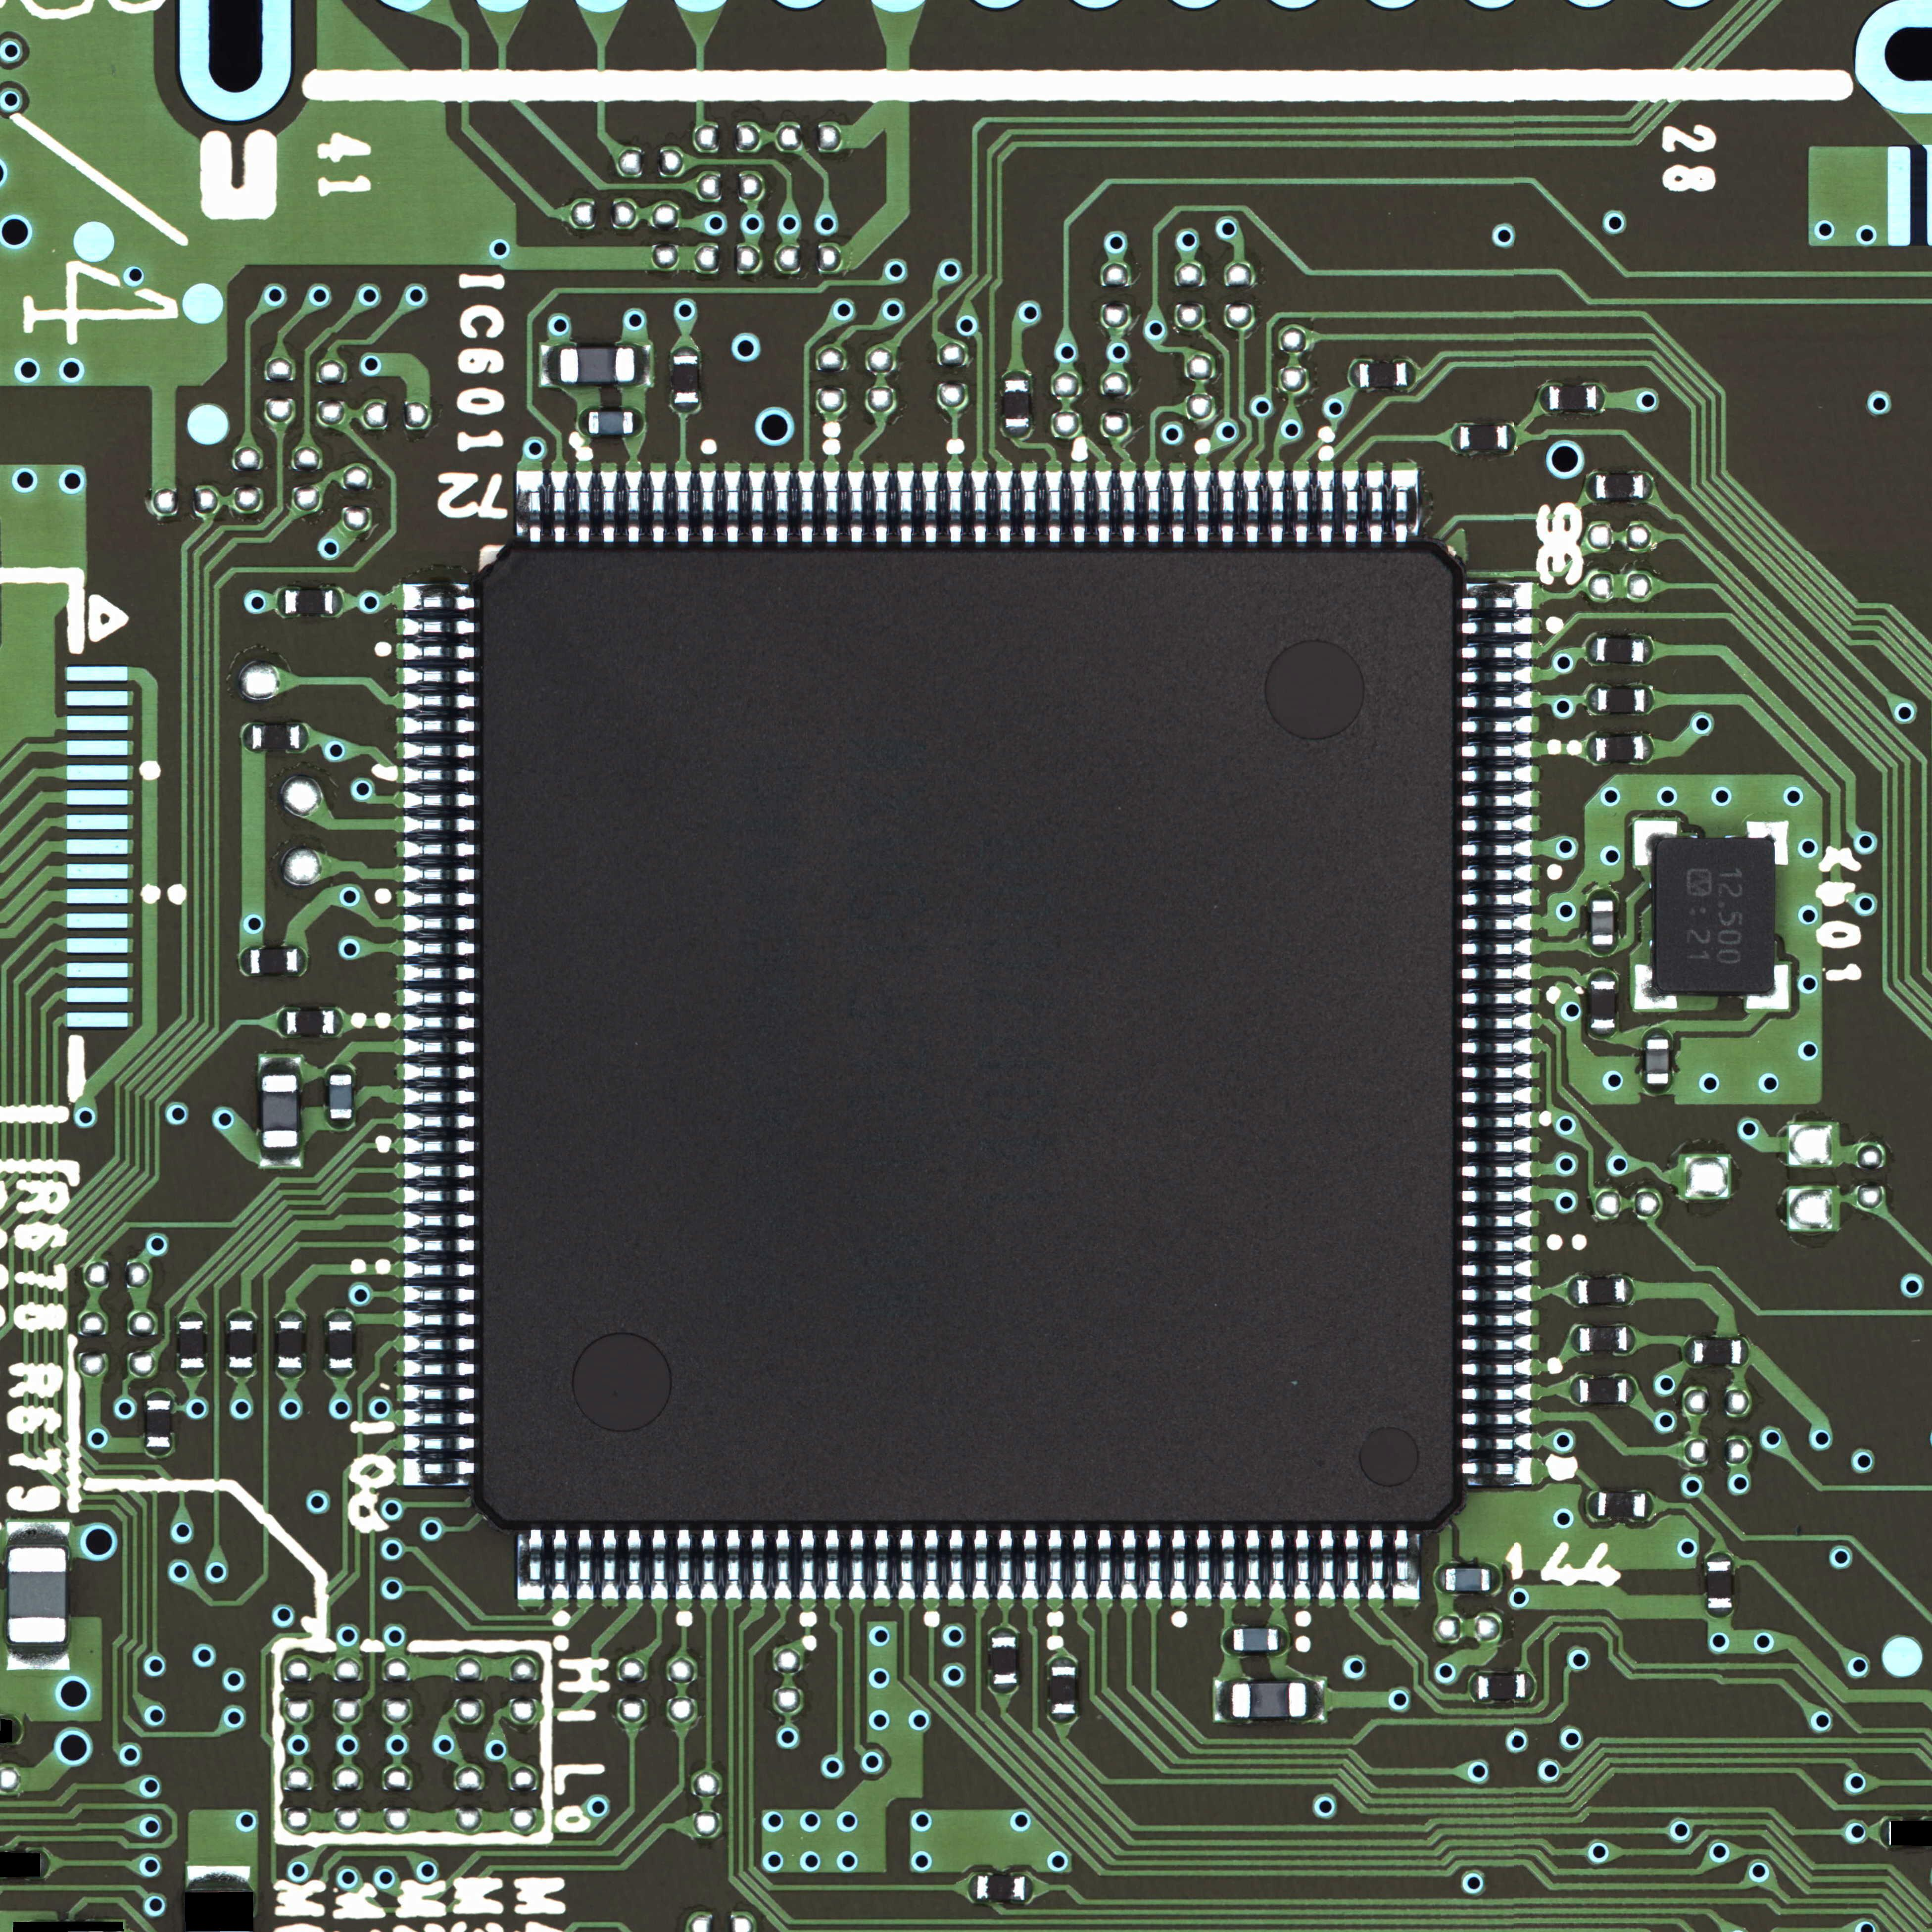Package: (481, 543, 1461, 1529), (1656, 840, 1773, 993), (7, 1548, 65, 1642), (557, 347, 633, 384), (262, 1076, 297, 1146), (1231, 1684, 1306, 1718), (991, 1638, 1019, 1684), (672, 356, 699, 403), (251, 725, 299, 750), (249, 950, 297, 975), (228, 1320, 253, 1368), (278, 1322, 303, 1369), (1051, 1667, 1076, 1714), (977, 1875, 1024, 1900), (1548, 386, 1596, 410), (1591, 982, 1615, 1030), (1693, 1341, 1741, 1366), (1598, 1493, 1645, 1518), (283, 591, 333, 614), (179, 1322, 203, 1368), (327, 1322, 352, 1368), (147, 1401, 172, 1447), (1598, 639, 1644, 663), (1598, 688, 1644, 713), (1578, 1279, 1624, 1304), (1707, 1562, 1732, 1608), (287, 1012, 334, 1035), (1005, 380, 1028, 428), (1359, 364, 1407, 387), (1596, 476, 1644, 499), (1596, 738, 1644, 761), (1477, 1675, 1525, 1698), (1460, 426, 1506, 449), (1580, 1380, 1626, 1403), (589, 412, 633, 435), (1445, 1568, 1490, 1591), (329, 1076, 352, 1118), (1233, 1629, 1279, 1651), (1647, 1039, 1668, 1085), (1580, 1329, 1626, 1350), (1592, 901, 1614, 945)
Solder: (403, 1458, 479, 1486), (1391, 471, 1419, 543), (515, 471, 543, 543), (1633, 821, 1677, 867), (403, 584, 479, 610), (1392, 1530, 1421, 1601), (517, 1530, 545, 1601), (1746, 964, 1789, 1010), (1463, 582, 1532, 610), (1635, 966, 1677, 1010), (1463, 1458, 1532, 1484), (1746, 823, 1789, 865), (7, 1644, 65, 1670), (7, 1522, 69, 1546), (403, 1260, 481, 1279), (402, 667, 479, 686), (402, 717, 479, 736), (186, 1865, 251, 1888), (403, 938, 479, 957), (403, 1433, 479, 1453), (403, 692, 479, 711), (1069, 471, 1088, 543), (1316, 471, 1336, 543), (1267, 471, 1286, 543), (550, 1530, 570, 1601), (600, 1530, 619, 1601), (625, 1530, 644, 1601), (674, 1530, 694, 1601), (699, 1530, 718, 1601), (724, 1530, 743, 1601), (748, 1530, 768, 1601), (773, 1530, 793, 1601), (798, 1530, 817, 1601), (823, 1530, 842, 1601), (1070, 1530, 1090, 1601), (847, 1530, 867, 1601), (947, 1530, 966, 1601), (996, 1530, 1016, 1601), (1366, 1530, 1385, 1601), (1242, 1530, 1261, 1601), (1192, 1530, 1212, 1601), (1461, 1334, 1532, 1353), (1463, 1062, 1534, 1081), (1463, 1111, 1534, 1131), (402, 989, 479, 1007), (403, 1014, 481, 1031), (403, 1039, 481, 1056), (403, 1063, 481, 1081), (403, 1088, 481, 1106), (403, 1113, 481, 1131), (403, 1138, 481, 1155), (403, 1162, 481, 1180), (403, 1187, 481, 1205), (403, 1212, 481, 1230), (403, 1237, 481, 1254), (403, 1286, 481, 1304), (403, 1311, 481, 1329), (403, 791, 479, 809), (403, 816, 479, 833), (403, 840, 479, 858), (403, 890, 479, 908), (403, 915, 479, 932), (403, 964, 479, 982), (403, 1336, 479, 1353), (403, 1408, 479, 1426), (403, 1384, 479, 1401), (403, 1359, 479, 1376), (403, 619, 479, 637), (403, 644, 479, 662), (1463, 1037, 1532, 1056), (1463, 1086, 1532, 1106), (550, 471, 568, 543), (625, 471, 642, 543), (699, 471, 717, 543), (773, 471, 791, 543), (798, 471, 816, 543), (823, 471, 840, 543), (847, 471, 865, 543), (872, 471, 890, 543), (897, 471, 915, 543), (922, 471, 939, 543), (947, 471, 964, 543), (971, 471, 989, 543), (996, 471, 1014, 543), (1021, 471, 1039, 543), (1046, 471, 1063, 543), (1095, 471, 1113, 543), (1120, 471, 1138, 543), (1366, 471, 1384, 543), (1341, 471, 1359, 543), (1292, 471, 1309, 543), (1242, 471, 1260, 543), (1217, 471, 1235, 543), (1169, 471, 1187, 543), (1145, 471, 1162, 543), (575, 472, 593, 543), (600, 472, 617, 543), (649, 472, 667, 543), (674, 472, 692, 543), (724, 472, 741, 543), (748, 472, 766, 543), (1192, 472, 1210, 543), (577, 1530, 594, 1601), (649, 1530, 667, 1601), (872, 1530, 890, 1601), (897, 1530, 915, 1601), (922, 1530, 939, 1601), (971, 1530, 989, 1601), (1021, 1530, 1039, 1601), (1046, 1530, 1063, 1601), (1095, 1530, 1113, 1601), (1120, 1530, 1138, 1601), (1343, 1530, 1361, 1601), (1269, 1530, 1286, 1601), (1217, 1530, 1235, 1601), (1169, 1530, 1187, 1601), (1145, 1530, 1162, 1601), (1463, 1012, 1534, 1030), (1463, 1161, 1534, 1178), (1463, 1210, 1534, 1228), (1463, 1260, 1534, 1277), (1463, 1309, 1534, 1327), (1461, 1433, 1532, 1451), (1293, 1530, 1311, 1599), (1463, 617, 1532, 635), (1463, 642, 1532, 660), (1463, 667, 1532, 685), (1463, 692, 1532, 709), (1463, 717, 1532, 734), (1463, 741, 1532, 759), (1463, 766, 1532, 784), (1463, 791, 1532, 809), (1463, 816, 1532, 833), (1463, 840, 1532, 858), (1463, 865, 1532, 883), (1463, 890, 1532, 908), (1463, 915, 1532, 932), (1463, 939, 1532, 957), (1463, 964, 1532, 982), (1463, 989, 1532, 1007), (1463, 1136, 1532, 1154), (1463, 1185, 1532, 1203), (1463, 1235, 1532, 1253), (1463, 1284, 1532, 1302), (1463, 1408, 1532, 1426), (1463, 1384, 1532, 1401), (1463, 1359, 1532, 1376), (403, 743, 479, 759), (403, 768, 479, 784), (403, 867, 479, 883), (1318, 1530, 1334, 1599), (262, 1056, 299, 1076), (1306, 1683, 1325, 1718), (262, 1148, 297, 1166), (1215, 1683, 1231, 1721), (541, 347, 557, 384), (635, 347, 651, 384), (1591, 945, 1614, 957), (239, 948, 249, 975), (1049, 1714, 1076, 1725), (1706, 1610, 1732, 1621), (12, 1718, 23, 1744), (278, 1311, 303, 1322), (327, 1368, 352, 1378), (228, 1368, 253, 1378), (1525, 1675, 1536, 1700), (1435, 1566, 1445, 1591), (1707, 1552, 1732, 1562), (1587, 1493, 1598, 1518), (1624, 1279, 1635, 1304), (1647, 1083, 1668, 1095), (1644, 736, 1654, 761), (1585, 736, 1596, 761), (1644, 688, 1654, 713), (1585, 474, 1596, 499), (1879, 1821, 1888, 1849), (633, 412, 644, 435), (579, 410, 589, 433), (674, 403, 697, 414), (1007, 428, 1030, 439), (1279, 1628, 1290, 1651), (1490, 1568, 1500, 1591), (1569, 1378, 1580, 1401), (1592, 971, 1615, 982), (1591, 890, 1614, 901), (1587, 688, 1598, 711), (297, 950, 306, 977), (145, 1447, 172, 1456), (968, 1875, 977, 1902), (1741, 1339, 1750, 1366), (1684, 1339, 1693, 1366), (1587, 637, 1596, 663), (1539, 386, 1548, 412), (1451, 425, 1460, 451), (41, 1851, 50, 1877), (276, 589, 285, 614), (301, 725, 310, 750), (242, 725, 251, 750), (334, 1010, 343, 1035), (278, 1010, 287, 1035), (228, 1311, 253, 1320), (278, 1371, 303, 1380), (147, 1391, 172, 1399), (993, 1628, 1017, 1637), (993, 1684, 1017, 1693), (1468, 1675, 1477, 1700), (1568, 1279, 1576, 1304), (1591, 1030, 1615, 1039), (1644, 474, 1652, 499), (1596, 386, 1605, 410), (1507, 426, 1516, 451), (1350, 363, 1359, 387), (334, 591, 343, 614), (329, 1120, 352, 1129), (180, 1313, 203, 1322), (329, 1311, 352, 1320), (180, 1369, 203, 1378), (674, 347, 697, 356), (1051, 1658, 1074, 1667), (1628, 1380, 1637, 1403), (1407, 364, 1415, 387), (331, 1065, 352, 1074), (1224, 1629, 1233, 1651), (1569, 1329, 1578, 1350), (1645, 637, 1652, 663), (1026, 1875, 1033, 1900), (1645, 1493, 1652, 1518), (1005, 372, 1028, 379), (1628, 1327, 1635, 1350), (1645, 1031, 1668, 1039)
